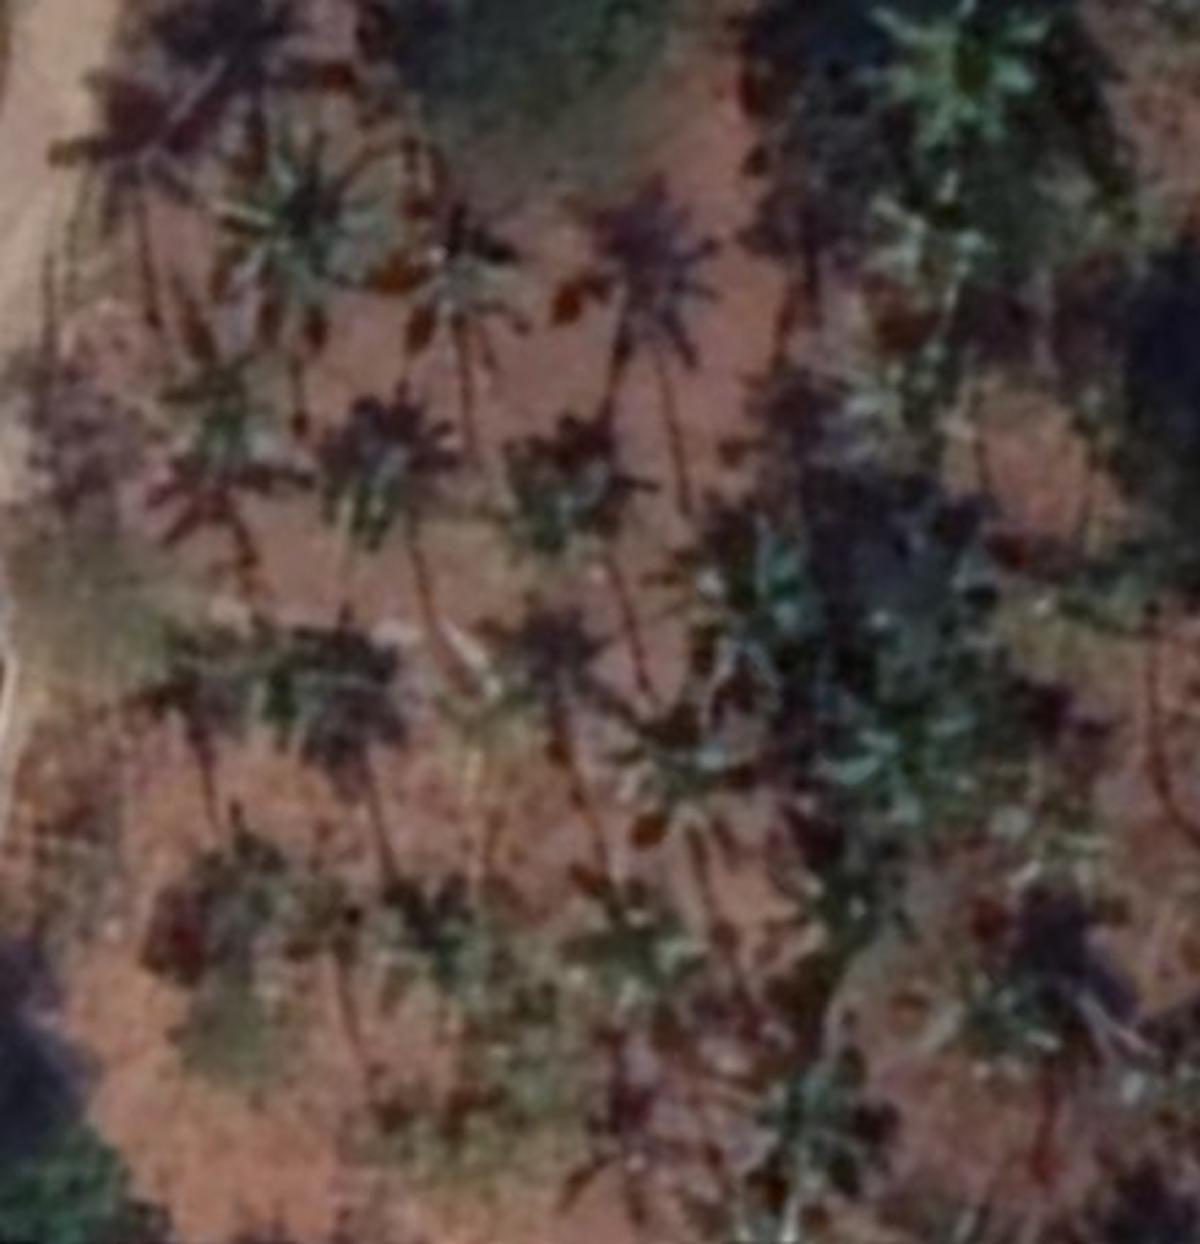coconut: (138, 318, 304, 500), (224, 141, 400, 302), (824, 664, 982, 843), (859, 6, 1042, 157), (204, 609, 383, 759), (677, 495, 824, 672), (734, 1056, 878, 1222), (927, 947, 1061, 1086), (316, 402, 448, 541), (481, 612, 609, 743), (606, 726, 740, 849), (870, 179, 993, 307), (593, 901, 716, 1023), (524, 430, 639, 555), (408, 220, 503, 342)
